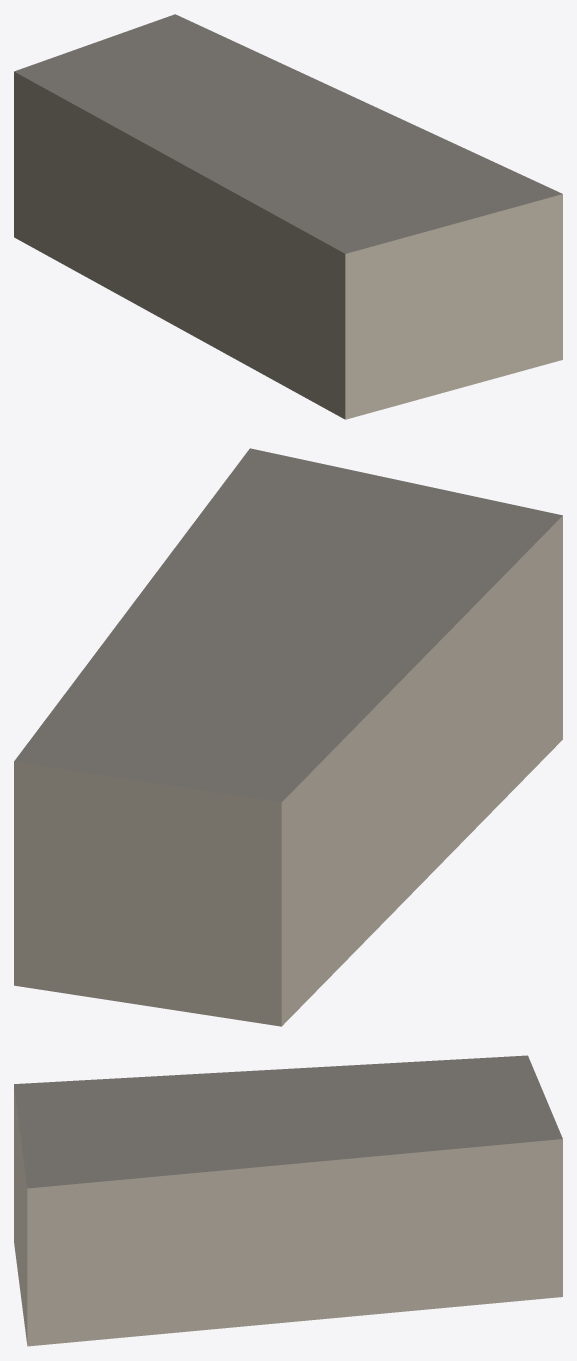
3 renders of one model, top to bottom at view 1: azimuth 30°, elevation 25°; view 2: azimuth 150°, elevation 25°; view 3: azimuth 270°, elevation 25°, orthographic. The views are drawn at different scales.
Visible parts, largest first — view 1: HP-w414733185; view 2: HP-w414733185; view 3: HP-w414733185.
Boxes of the visible parts, <box> form: HP-w414733185: <box>14,14,562,419</box>; HP-w414733185: <box>14,448,562,1026</box>; HP-w414733185: <box>14,1055,562,1346</box>.
Size of the model in its own units: 27.09 by 15 by 47.24.
